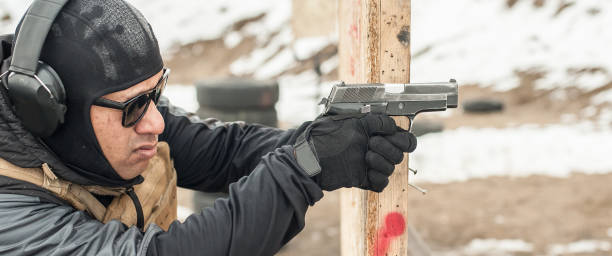gun: (320, 79, 460, 136)
